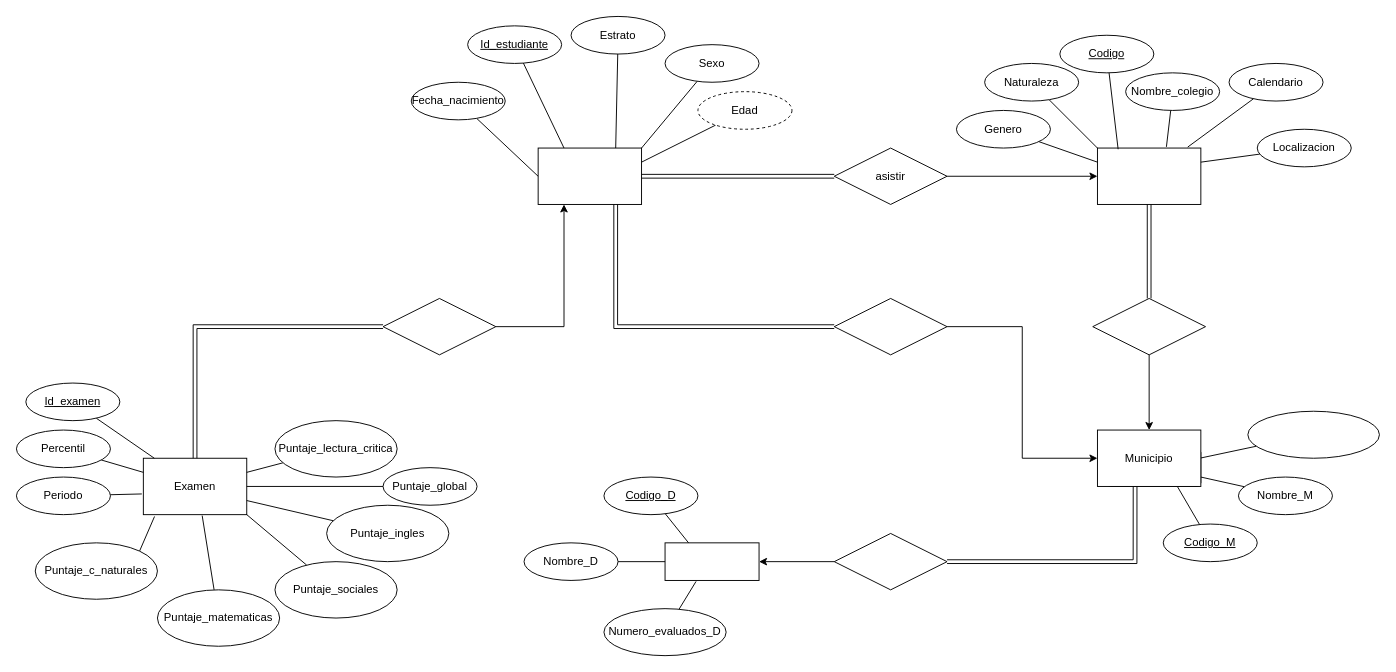
Some shapes in this 1396 by 672 pixel diagram are drawn without their labels. The shapes that lost their labels are listed below. From the top down, each one's centre as x and y in pixels, then its label:
[589,175]: Estudiante
[1149,175]: Colegio
[439,326]: presentar
[890,326]: residir
[1149,326]: tener
[1313,434]: Numero_evaludados_M
[711,561]: Departamento
[890,561]: localizar
